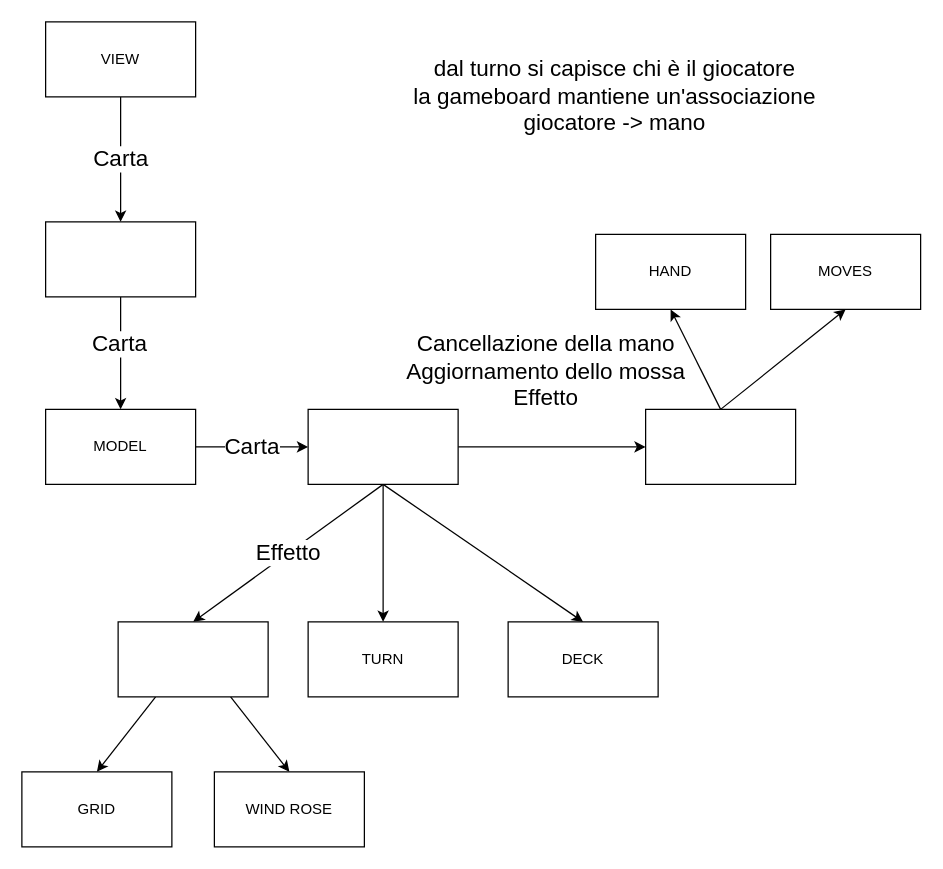
Image size: 943x869. Some labels were removed from this diagram. The centre of each missing label's shape, as x and y in pixels:
"BOARD" goes at point 192,659.
"CONTROLLER" goes at point 120,259.
"GAMEBOARD GAME MODEL" goes at point 382,446.
"PLAYER" goes at point 720,446.
